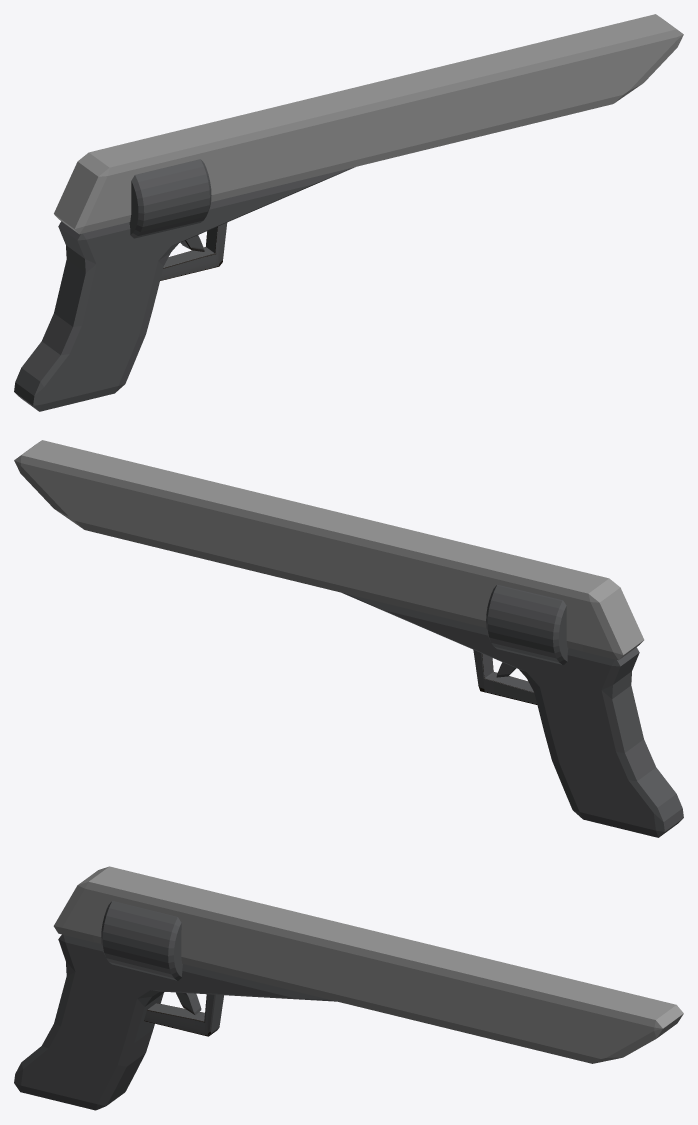
Rendered from pistola com cor.fbx.
3 renders of one model, top to bottom at view 1: azimuth 30°, elevation 25°; view 2: azimuth 150°, elevation 25°; view 3: azimuth 330°, elevation 25°, orthographic.
Parts seen in each view (by area): view 1: parte de cima, Robinson[, Cylinder, Gatilho; view 2: parte de cima, Robinson[, Cylinder, Gatilho; view 3: parte de cima, Robinson[, Cylinder, Gatilho.
Boxes of the visible parts, x1,y1,x2,y2 form: parte de cima: (54, 14, 683, 234); Robinson[: (14, 167, 355, 411); Cylinder: (129, 159, 211, 238); Gatilho: (160, 222, 227, 280); parte de cima: (14, 440, 644, 660); Robinson[: (342, 593, 683, 837); Cylinder: (486, 584, 568, 664); Gatilho: (473, 649, 537, 704); parte de cima: (53, 866, 683, 1063); Robinson[: (14, 934, 336, 1110); Cylinder: (101, 901, 182, 980); Gatilho: (144, 994, 223, 1036).
Bounding box in the file's own units: 804 × 269 × 90.42.
Materials: 2 (2 with a texture image).
